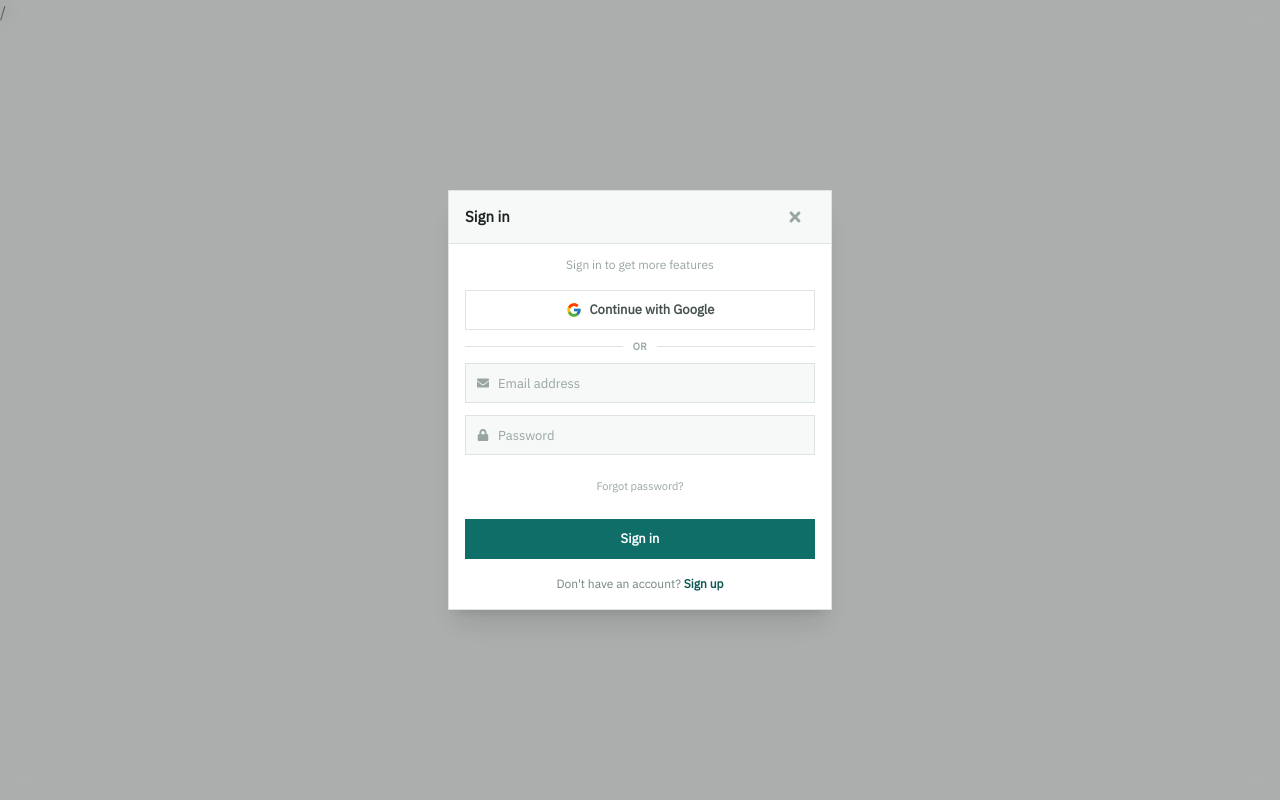
Test: AuthModal › forgot password › switches the modal to a forgot-password screen instead of leaving the page
Click the button "Forgot password?".
click(640, 487)  # box [588, 467, 692, 507]
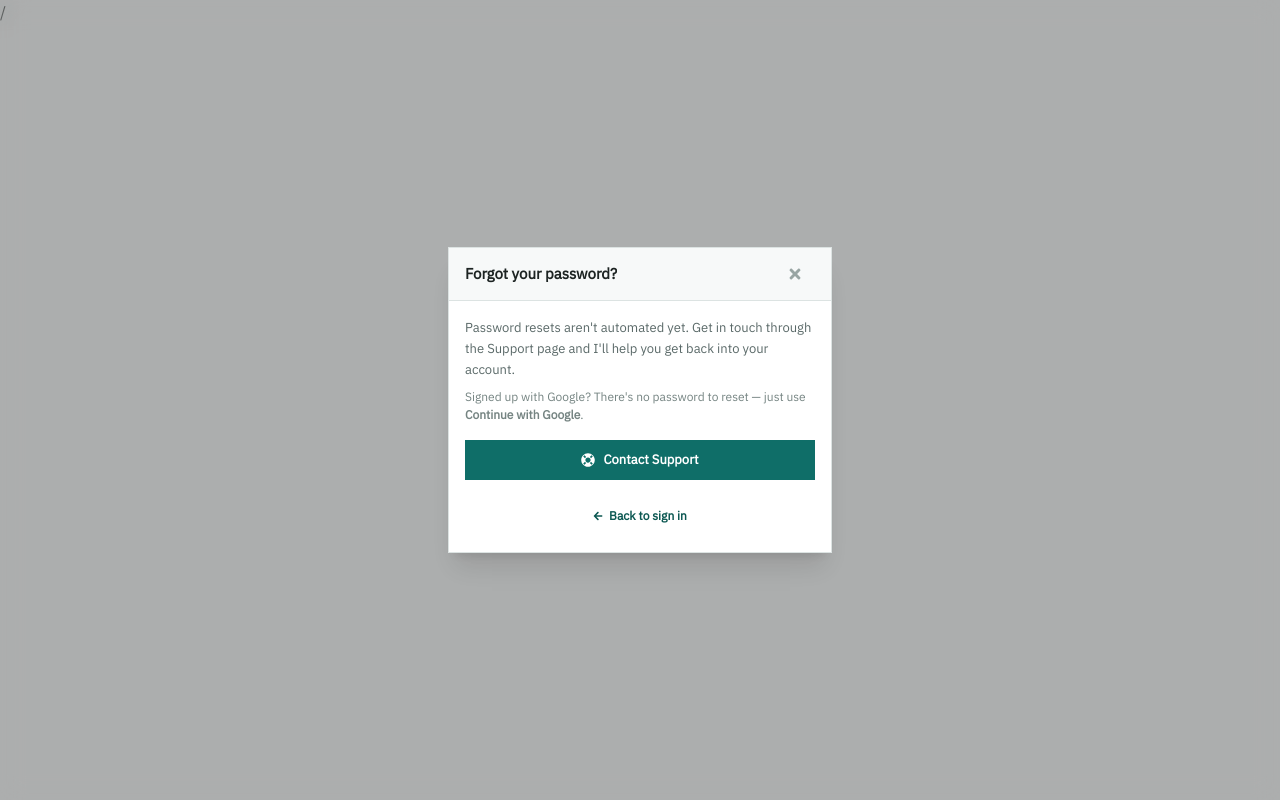
Expected: the text with test id "location" reads "/", [0, 2, 6, 22]
Expected: the heading "Forgot your password?" is shown, [465, 262, 617, 286]
Expected: the text "aren't automated yet" is shown, [465, 319, 811, 378]
